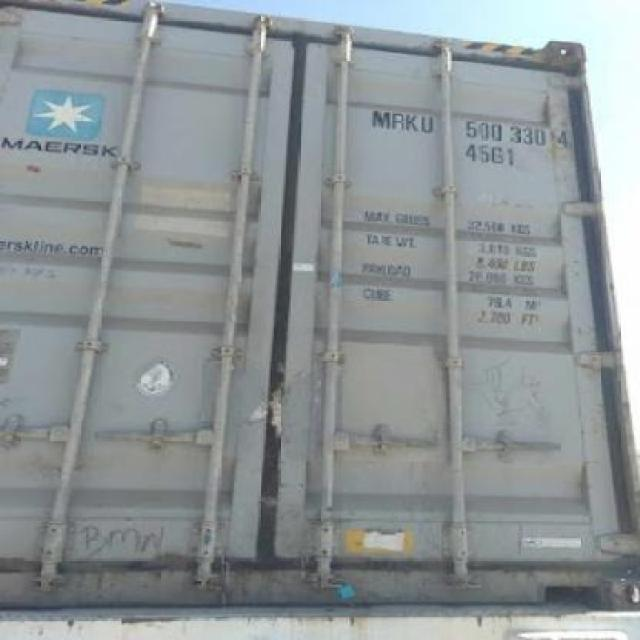ISO: (465, 144, 513, 166)
container_number: (374, 116, 558, 142)
